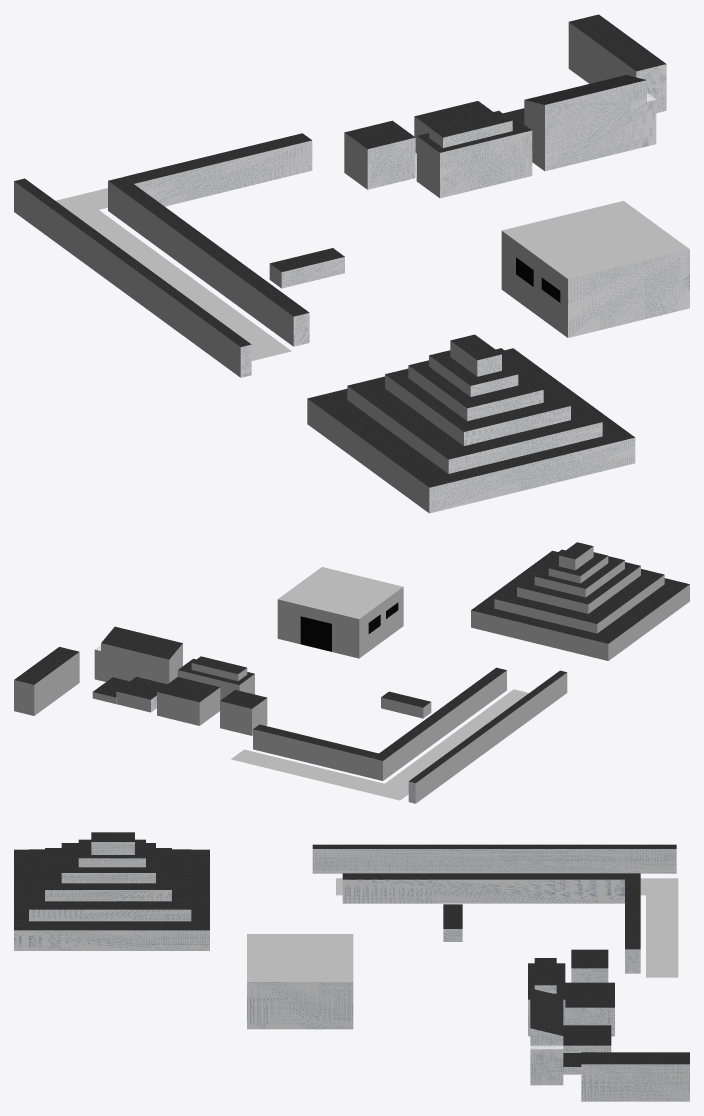
File: buildings.dae
3 views of the same model, one above another, from view 1: azimuth 30°, elevation 25°; view 2: azimuth 150°, elevation 25°; view 3: azimuth 270°, elevation 25° (orthographic). The views are drawn at different scales.
Visible parts, largest first — view 1: SketchUp (×39); view 2: SketchUp (×32); view 3: SketchUp (×32).
Part boxes in pixels (box(x1,y1,x2,y2)): SketchUp (×39): box(14, 14, 689, 513); SketchUp (×32): box(14, 546, 689, 803); SketchUp (×32): box(14, 832, 689, 1101).
Bounding box in the file's own units: 1658 × 2040 × 252.
